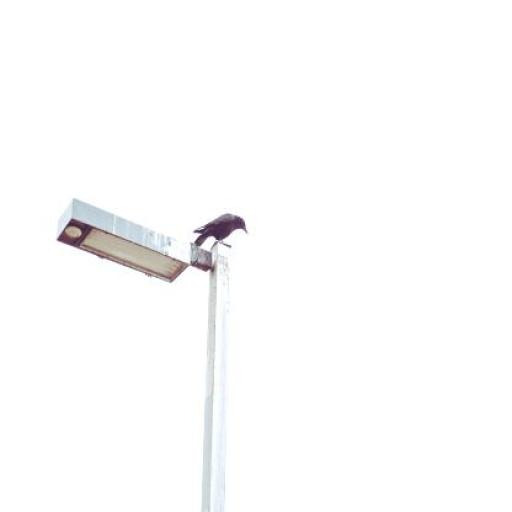street light: (57, 194, 232, 512)
